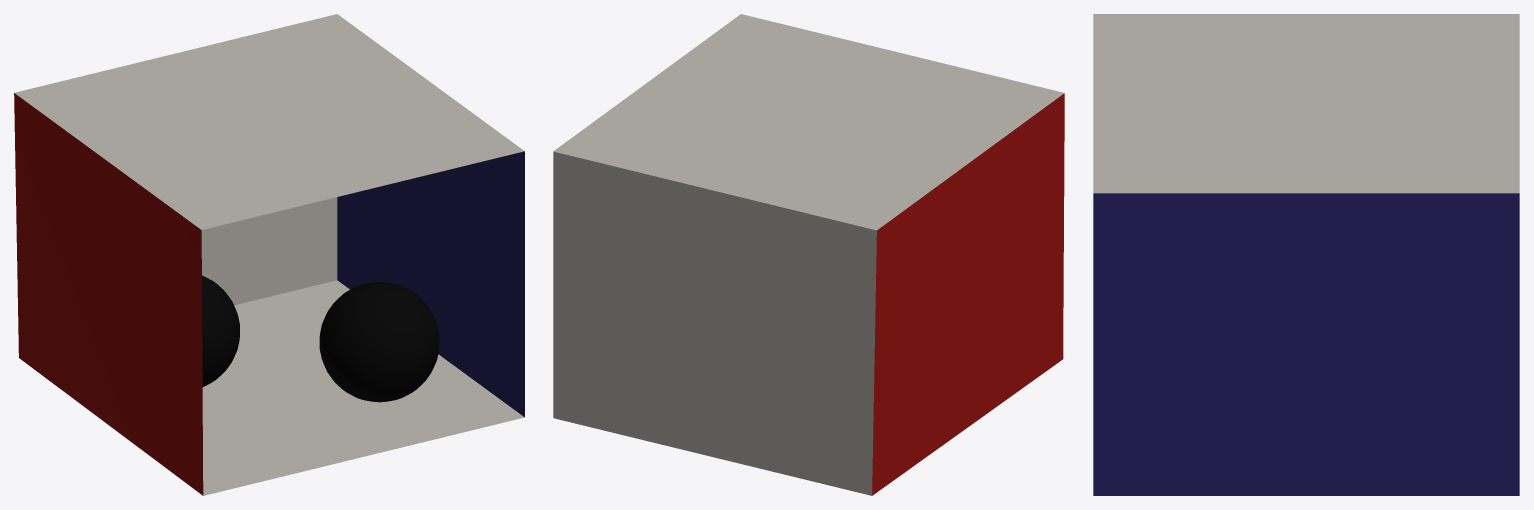
The model's file is CornellBox-Sphere.obj.
3 views of the same model, side by side, from view 1: azimuth 30°, elevation 25°; view 2: azimuth 150°, elevation 25°; view 3: azimuth 270°, elevation 25° (orthographic). The views are drawn at different scales.
Visible parts, largest first — view 1: ceiling, leftWall, floor, rightWall, rightSphere, backWall, leftSphere; view 2: backWall, ceiling, leftWall; view 3: rightWall, ceiling.
Boxes of the visible parts, x1,y1,x2,y2 form: ceiling: (14, 14, 524, 229); leftWall: (14, 93, 203, 495); floor: (202, 280, 524, 495); rightWall: (337, 151, 524, 417); rightSphere: (319, 282, 439, 402); backWall: (201, 197, 337, 305); leftSphere: (202, 275, 239, 386); backWall: (553, 151, 876, 495); ceiling: (553, 14, 1064, 230); leftWall: (872, 93, 1064, 495); rightWall: (1093, 193, 1519, 495); ceiling: (1093, 14, 1519, 193).
Bounding box in the file's own units: 2.02 × 1.59 × 2.03.
